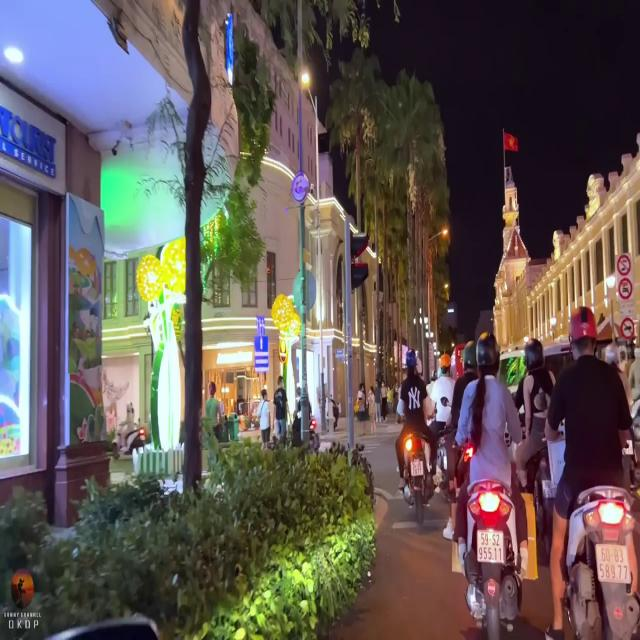bien_trang: (478, 530, 502, 566)
